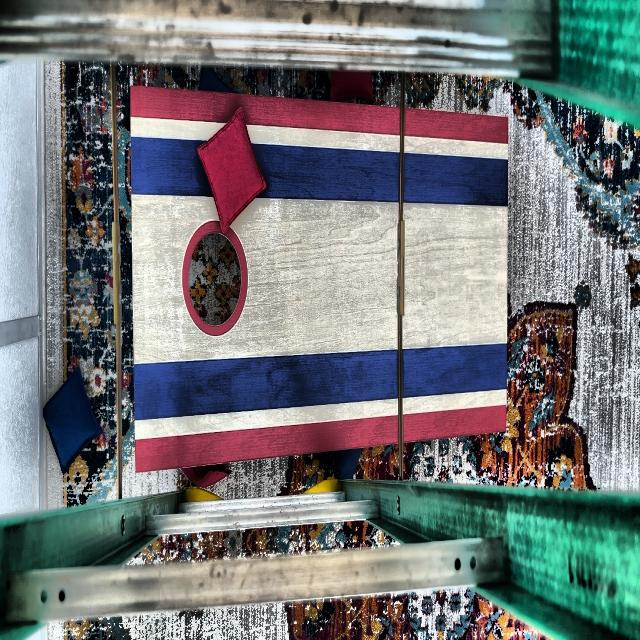blue-bean-bag: (43, 366, 102, 472), (198, 65, 240, 94), (336, 447, 362, 481)
board: (136, 118, 506, 430)
hole: (182, 219, 248, 336)
red-bean-bag: (198, 112, 268, 230), (331, 71, 373, 102), (181, 464, 233, 487)
